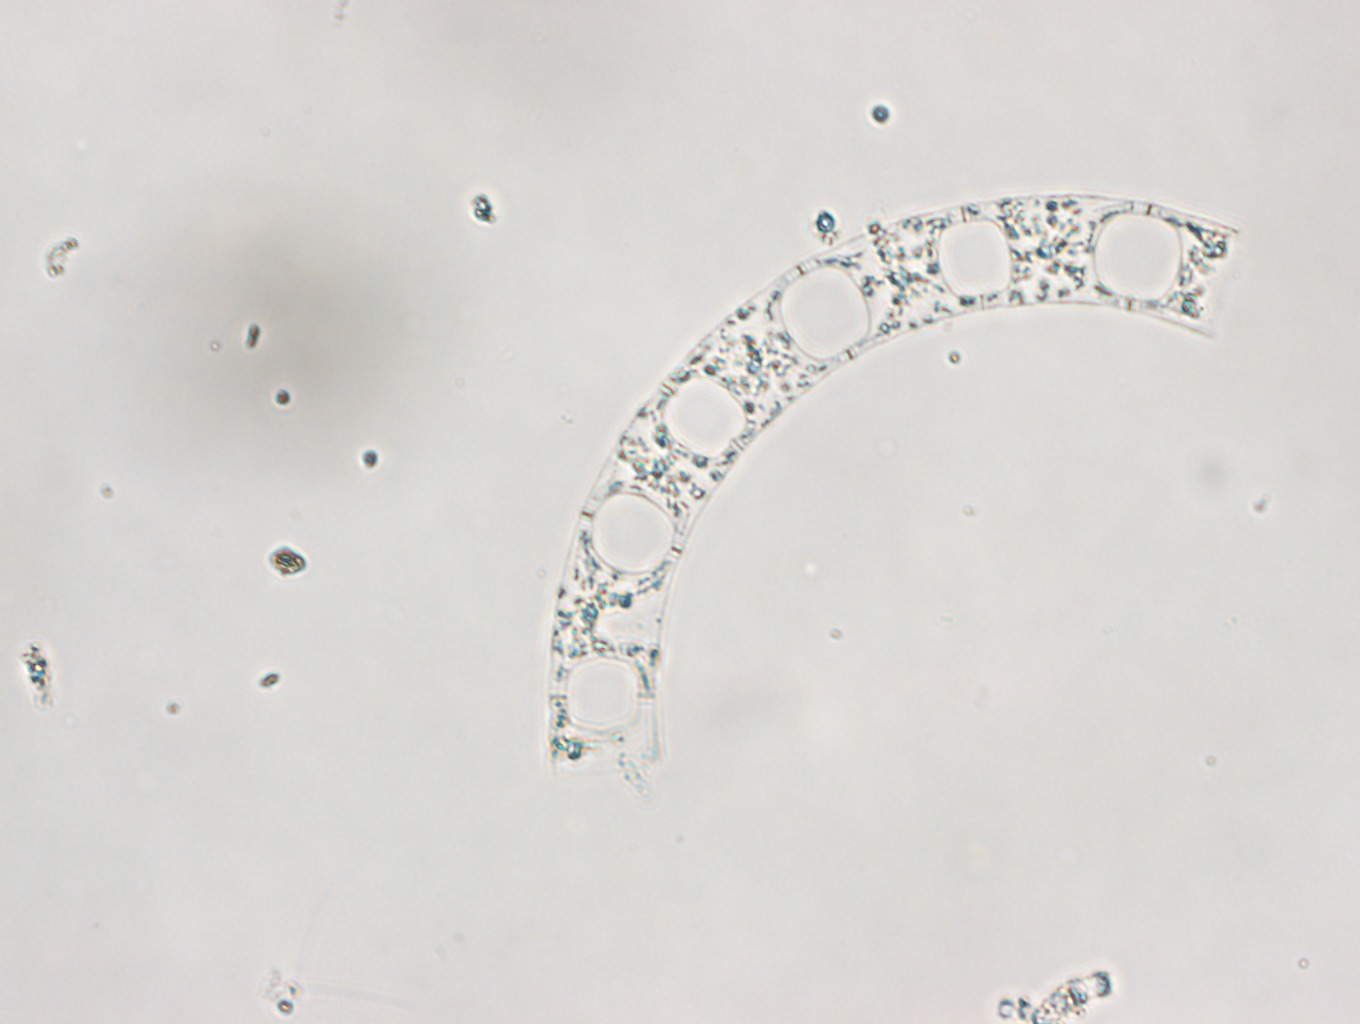eucampia: (546, 191, 1247, 786)
